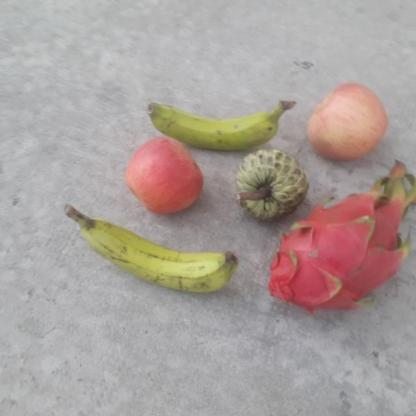annona: (236, 149, 309, 219)
apple: (306, 82, 390, 160), (124, 137, 205, 215)
banana: (81, 208, 239, 293), (145, 99, 296, 151)
pitaya: (267, 194, 414, 315)
